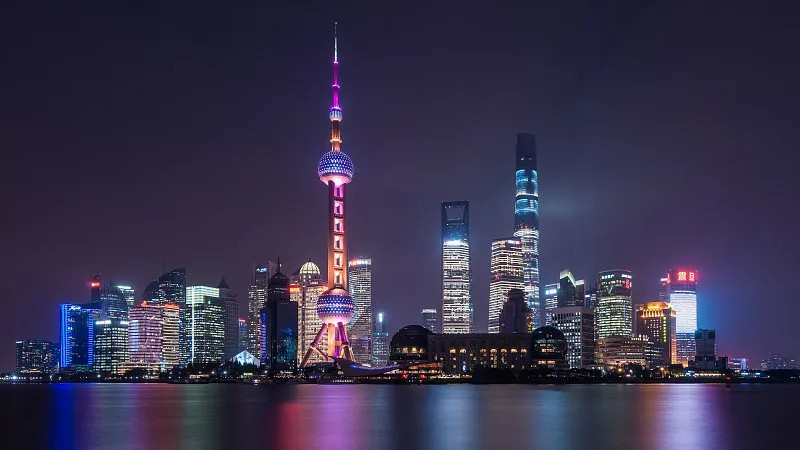Oriental: (300, 18, 356, 362)
